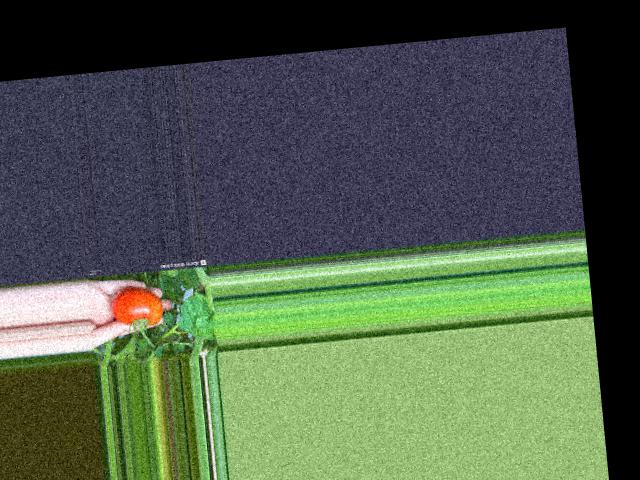tomato: (109, 285, 163, 328)
